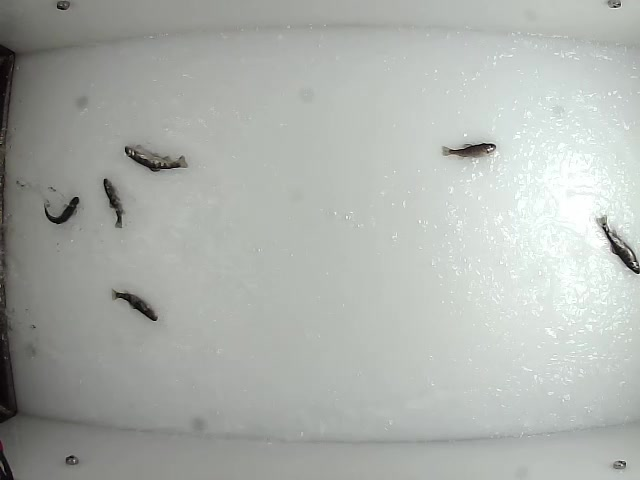fish: (591, 211, 640, 276), (117, 144, 189, 173), (109, 288, 162, 324), (440, 141, 499, 164), (101, 179, 127, 230), (42, 194, 82, 226)
